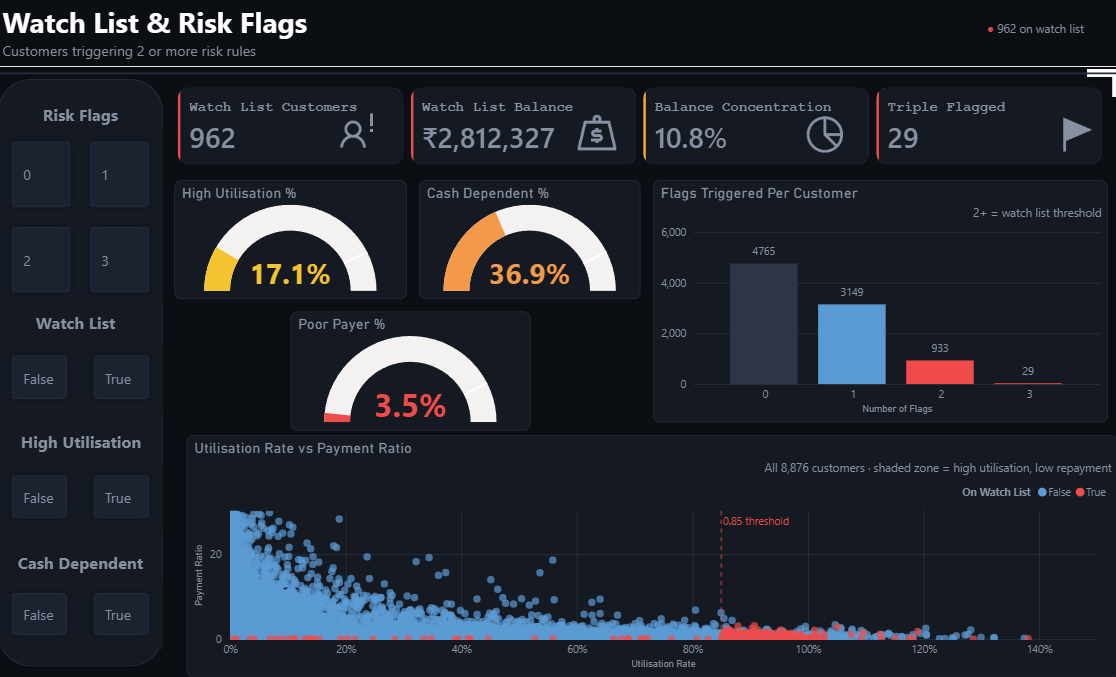

This screenshot's page, from the dashboard's own definition file:
{"tool":"powerbi","page":{"name":"02 Watchlist","canvas":[1280,775],"ordinal":1},"visuals":[{"type":"textbox","box":[0,0,1280,78.6],"z":0},{"type":"advancedSlicerVisual","fields":{"Values":["credit_card_final.watch_list"]},"box":[0,391.4,188.6,82.9],"z":0,"group":"g2"},{"type":"cardVisual","fields":{"Data":["credit_card_final.Watch List Customers","credit_card_final.Watch List Balance","credit_card_final.Watch List %","credit_card_final.Triple Flagged"]},"box":[188.6,84.3,1091.4,122.9],"z":1000,"group":"g1"},{"type":"shape","box":[0,91.4,188.6,671.4],"z":1000},{"type":"advancedSlicerVisual","fields":{"Values":["credit_card_final.risk_flags"]},"box":[0,147.2,188.6,204.3],"z":1000,"group":"g2"},{"type":"group","id":"g1","title":"Group 1","box":[188.6,84.3,1091.4,122.9],"z":2000},{"type":"textbox","box":[21.4,114.3,145.7,38.6],"z":2000,"group":"g2"},{"type":"image","box":[649.2,127.7,72.5,54.5],"z":3000,"group":"g1"},{"type":"clusteredColumnChart","title":"Flags Triggered Per Customer","fields":{"Category":["credit_card_final.risk_flags"],"Y":["CountNonNull(credit_card_final.cust_id)"]},"box":[748.6,207.1,520,277.1],"z":3000},{"type":"advancedSlicerVisual","fields":{"Values":["credit_card_final.cash_dependent"]},"box":[0,662.9,188.6,80],"z":3000,"group":"g2"},{"type":"image","box":[905.5,124.2,68.8,51],"z":4000,"group":"g1"},{"type":"scatterChart","title":"Utilisation Rate vs Payment Ratio","fields":{"X":["Sum(credit_card_final.utilisation_rate)"],"Y":["Sum(credit_card_final.payment_ratio)"],"Category":["credit_card_final.cust_id"],"Series":["credit_card_final.watch_list"]},"box":[215.7,498.6,1064.3,277.1],"z":4000},{"type":"advancedSlicerVisual","fields":{"Values":["credit_card_final.high_utilisation"]},"box":[0,528.6,188.6,81.4],"z":4000,"group":"g2"},{"type":"group","id":"g2","title":"Group 2","box":[0,114.3,188.6,628.6],"z":5000},{"type":"image","box":[1200.5,127.7,52.5,47.5],"z":5000,"group":"g1"},{"type":"textbox","box":[14.3,627.2,160,35.7],"z":5000,"group":"g2"},{"type":"shape","box":[0,78.6,1280,12.9],"z":6000},{"type":"image","box":[381.7,124.2,58.8,52.2],"z":6000,"group":"g1"},{"type":"textbox","box":[14.3,488.6,161.4,40],"z":6000,"group":"g2"},{"type":"gauge","title":"Cash Dependent %","fields":{"Y":["credit_card_final.Cash Dependent %"]},"box":[481.4,207.1,252.9,135.7],"z":7000},{"type":"textbox","box":[14.3,352.9,148.6,38.6],"z":7000,"group":"g2"},{"type":"gauge","title":"High Utilisation %","fields":{"Y":["credit_card_final.High Utilisation %"]},"box":[201.4,207.1,265.7,135.7],"z":8000},{"type":"gauge","title":"Poor Payer %","fields":{"Y":["credit_card_final.Poor Payer %"]},"box":[334.3,357.1,274.3,135.7],"z":9000}]}

Visuals, with their boxes in screenshot pixels (x1, y1, x2, y2), scaled from the page's 1280x775 canvas onto the 1116x677 screenshot:
textbox: Rect(0, 0, 1115, 69)
advancedSlicerVisual - credit_card_final.watch_list: Rect(0, 342, 164, 414)
cardVisual - credit_card_final.Watch List Customers x credit_card_final.Watch List Balance: Rect(164, 74, 1115, 181)
shape: Rect(0, 80, 164, 666)
advancedSlicerVisual - credit_card_final.risk_flags: Rect(0, 129, 164, 307)
"Group 1" group: Rect(164, 74, 1115, 181)
textbox: Rect(19, 100, 146, 134)
image: Rect(566, 112, 629, 159)
"Flags Triggered Per Customer" clusteredColumnChart: Rect(653, 181, 1106, 423)
advancedSlicerVisual - credit_card_final.cash_dependent: Rect(0, 579, 164, 649)
image: Rect(789, 108, 849, 153)
"Utilisation Rate vs Payment Ratio" scatterChart: Rect(188, 436, 1115, 676)
advancedSlicerVisual - credit_card_final.high_utilisation: Rect(0, 462, 164, 533)
"Group 2" group: Rect(0, 100, 164, 649)
image: Rect(1047, 112, 1092, 153)
textbox: Rect(12, 548, 152, 579)
shape: Rect(0, 69, 1115, 80)
image: Rect(333, 108, 384, 154)
textbox: Rect(12, 427, 153, 462)
"Cash Dependent %" gauge: Rect(420, 181, 640, 299)
textbox: Rect(12, 308, 142, 342)
"High Utilisation %" gauge: Rect(176, 181, 407, 299)
"Poor Payer %" gauge: Rect(291, 312, 531, 430)
